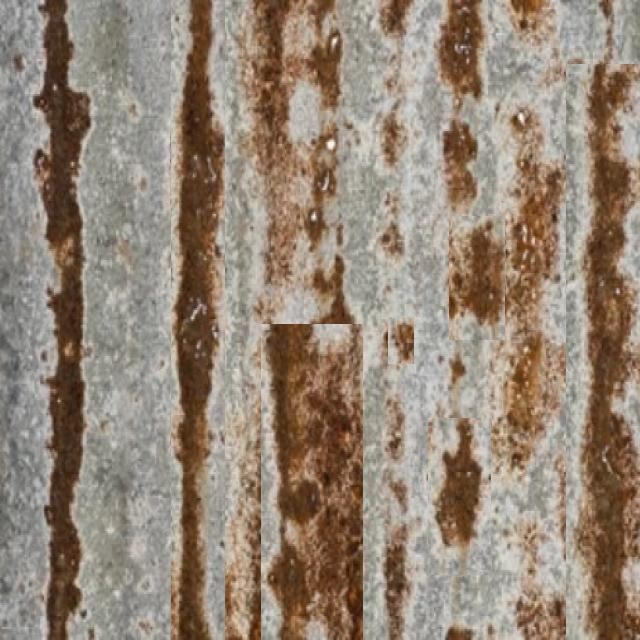Corrosion: (32, 0, 91, 640), (578, 59, 640, 640), (171, 0, 224, 640), (262, 325, 363, 640), (253, 0, 296, 285), (450, 221, 505, 324), (440, 0, 484, 96), (444, 118, 479, 212)
